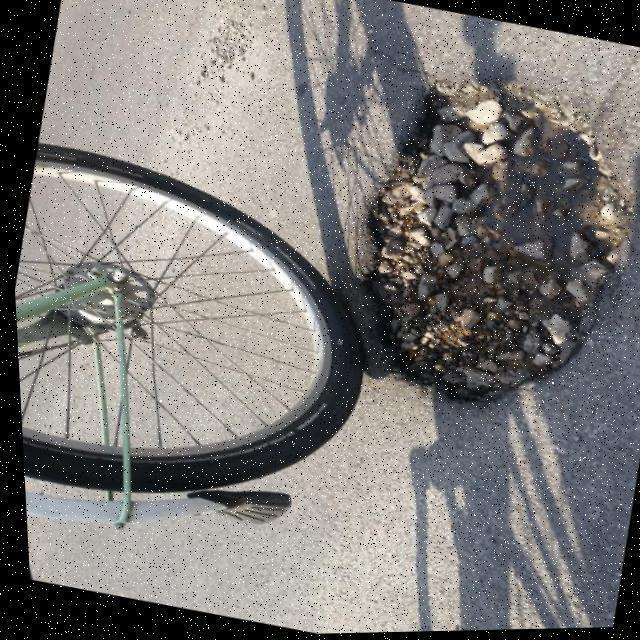Pothole: (369, 84, 631, 398)
